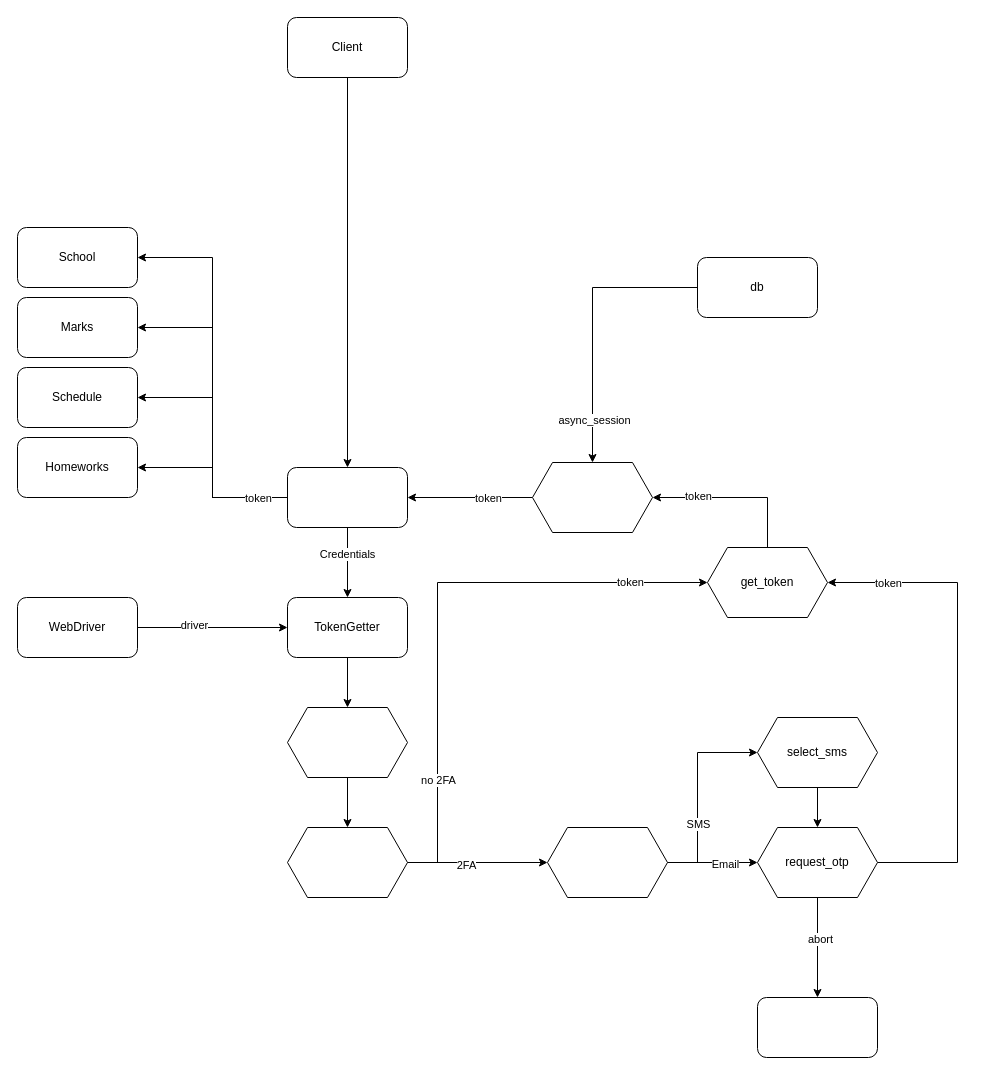
This 983x1075 diagram has some shape labels left out. The box of each missing label's shape, as (x1, y1, x2, y2) in pixels:
check_2fa: (286, 826, 408, 898)
MesApiError: (756, 996, 878, 1058)
provide_credentials: (286, 706, 408, 778)
request_method: (546, 826, 668, 898)
save_token: (532, 462, 652, 532)
User: (286, 466, 408, 528)
